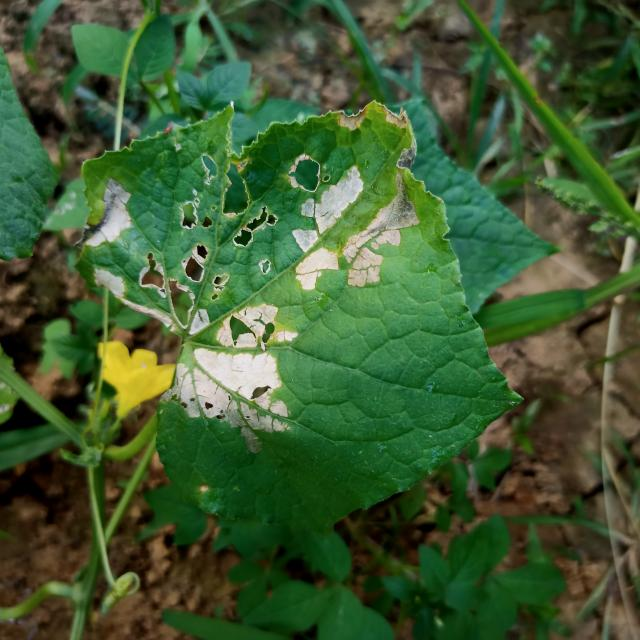disease_cucumber: (76, 104, 427, 352), (169, 294, 305, 446)
